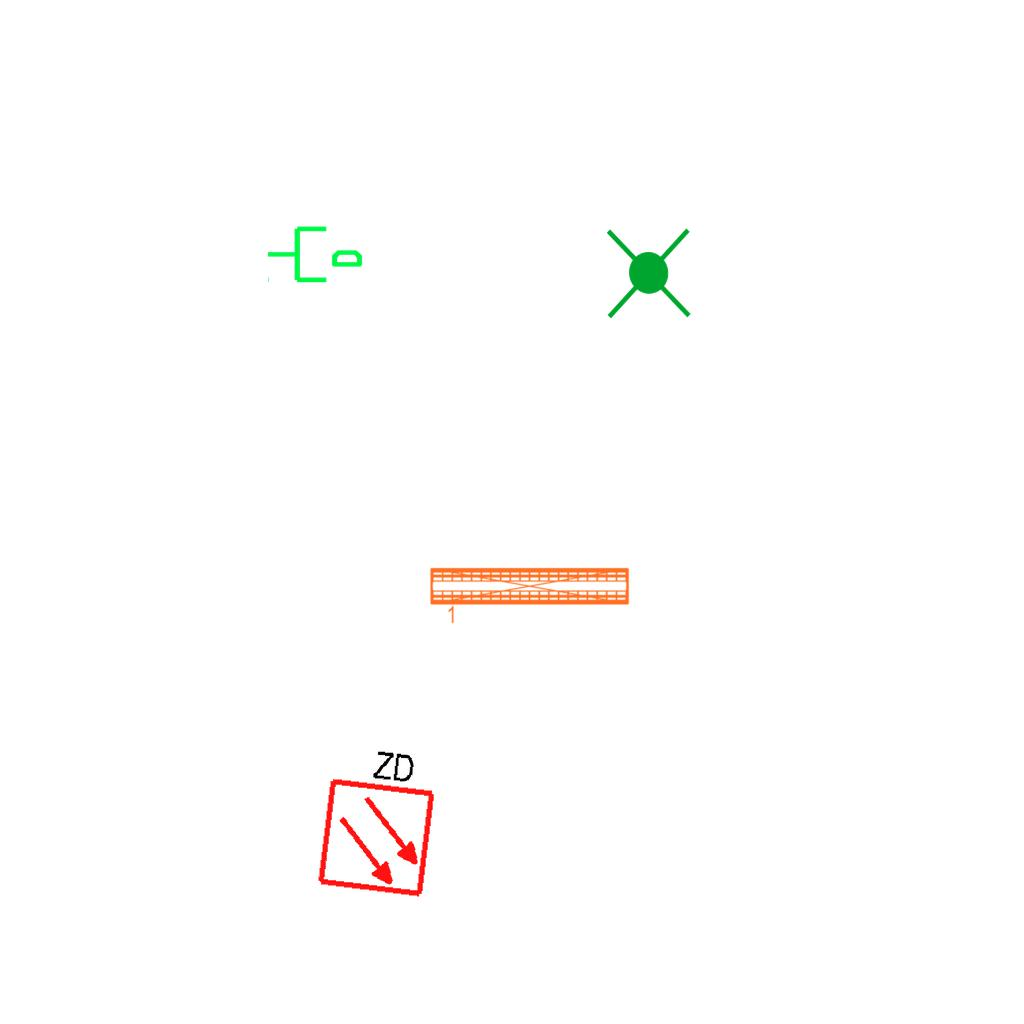Buero_Pendelleuchten_LED: (427, 563, 633, 628)
Datenanschluss_einfach: (265, 218, 365, 287)
Notlichtbaustein_in_Allgemeinbeleuchtug_engebaut_Einbau_(1UG_und_2UG_Aufbauvaria: (596, 223, 699, 323)
ZD_Melder_in_Zwischendecke_mit_Revisionsoeffnung_mind_40_x_40_cm: (311, 737, 443, 900)
